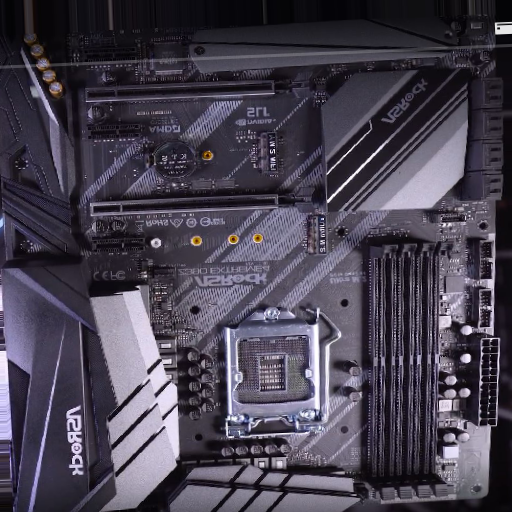CPU: (223, 306, 326, 424)
GPU: (84, 68, 315, 105), (89, 187, 317, 215)
MOTHERBOARD: (6, 7, 496, 505)
RAM: (361, 239, 452, 503)
SSD: (258, 128, 284, 176), (308, 213, 331, 257)
